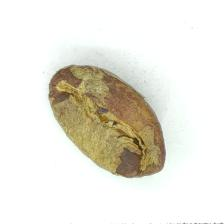NG: (61, 67, 157, 173)
